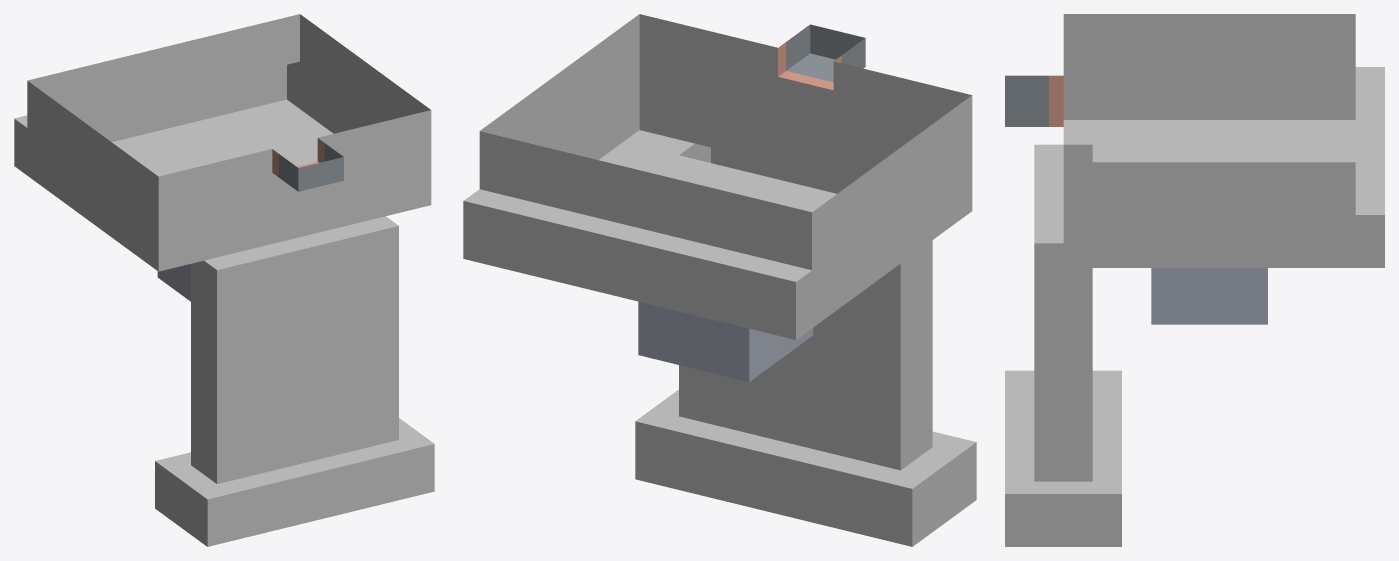
File: cell_38.obj
3 renders of one model, left to right at view 1: azimuth 30°, elevation 25°; view 2: azimuth 150°, elevation 25°; view 3: azimuth 270°, elevation 25°, orthographic. The views are drawn at different scales.
Bounding box in the file's own units: 0.75 × 0.9375 × 0.8125.
